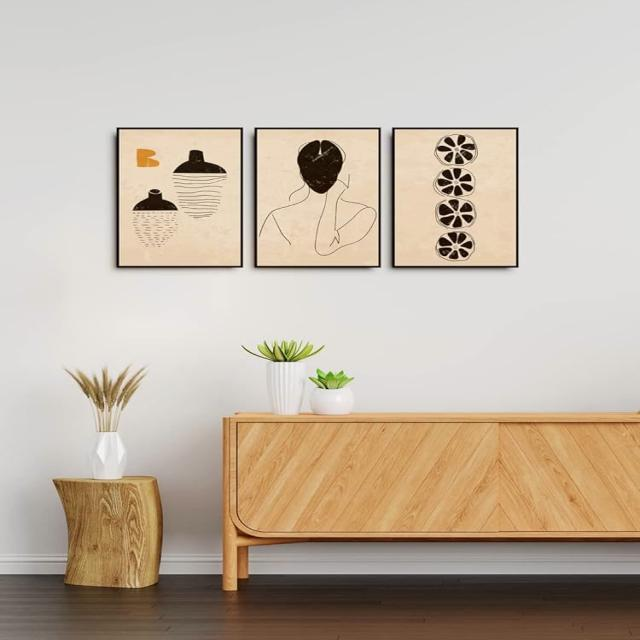painting: (253, 128, 381, 268), (117, 127, 243, 267), (393, 127, 518, 266)
